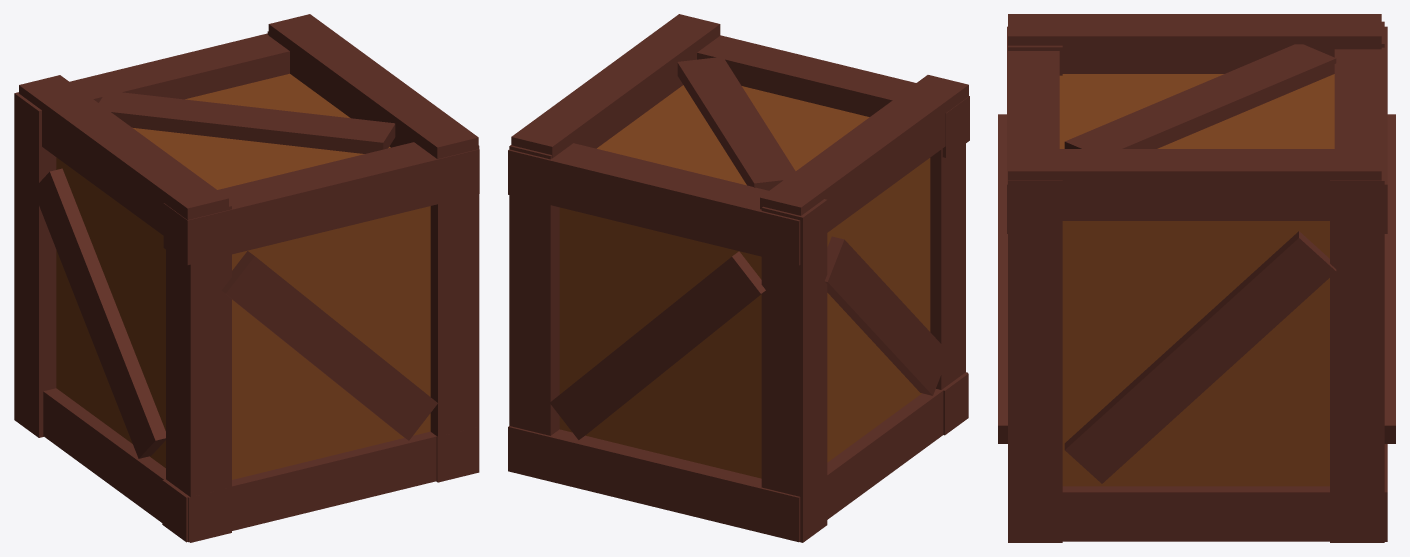
File: caixa.fbx
3 views of the same model, side by side, from view 1: azimuth 30°, elevation 25°; view 2: azimuth 150°, elevation 25°; view 3: azimuth 270°, elevation 25° (orthographic). The views are drawn at different scales.
Parts seen in each view (by area): view 1: Cube.018; view 2: Cube.018; view 3: Cube.018.
Part boxes in pixels (x1=…): Cube.018: x1=14, y1=14, x2=479, y2=542; Cube.018: x1=508, y1=14, x2=969, y2=542; Cube.018: x1=998, y1=14, x2=1395, y2=542.
Size of the model in its own units: 227 by 242 by 234.
